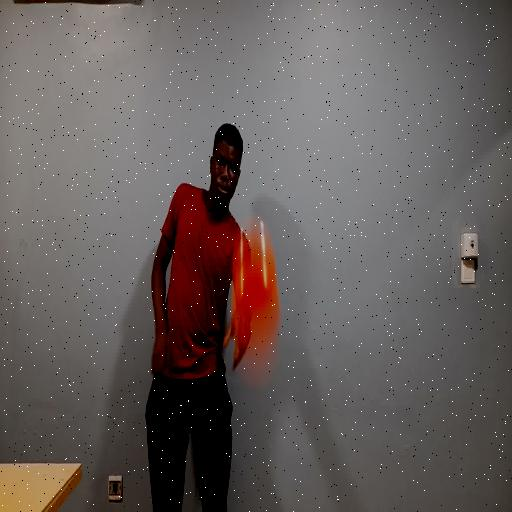plastic-ball: (218, 206, 305, 372)
